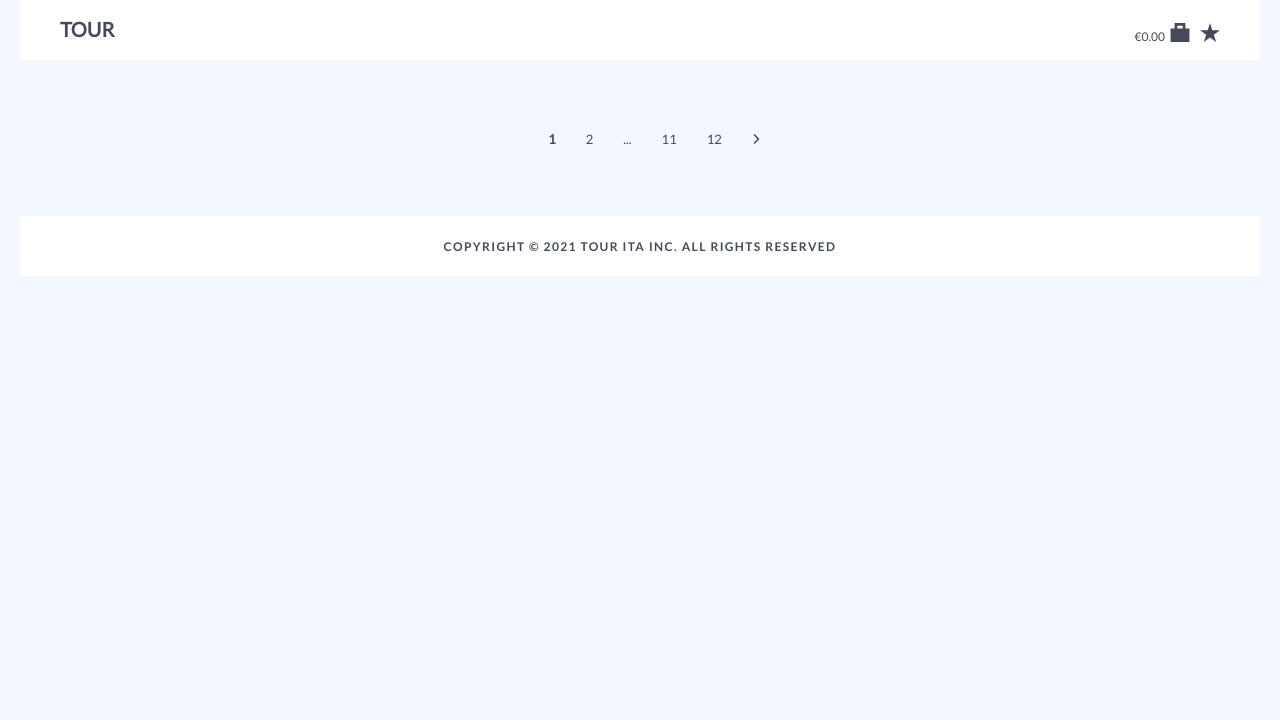
Test case: Home page E2E test › Wishlist modal appears when clicking the wishlist icon in the header
Click the picture with test id "wishlist-button": (1210, 33) [1200,23,1220,43]
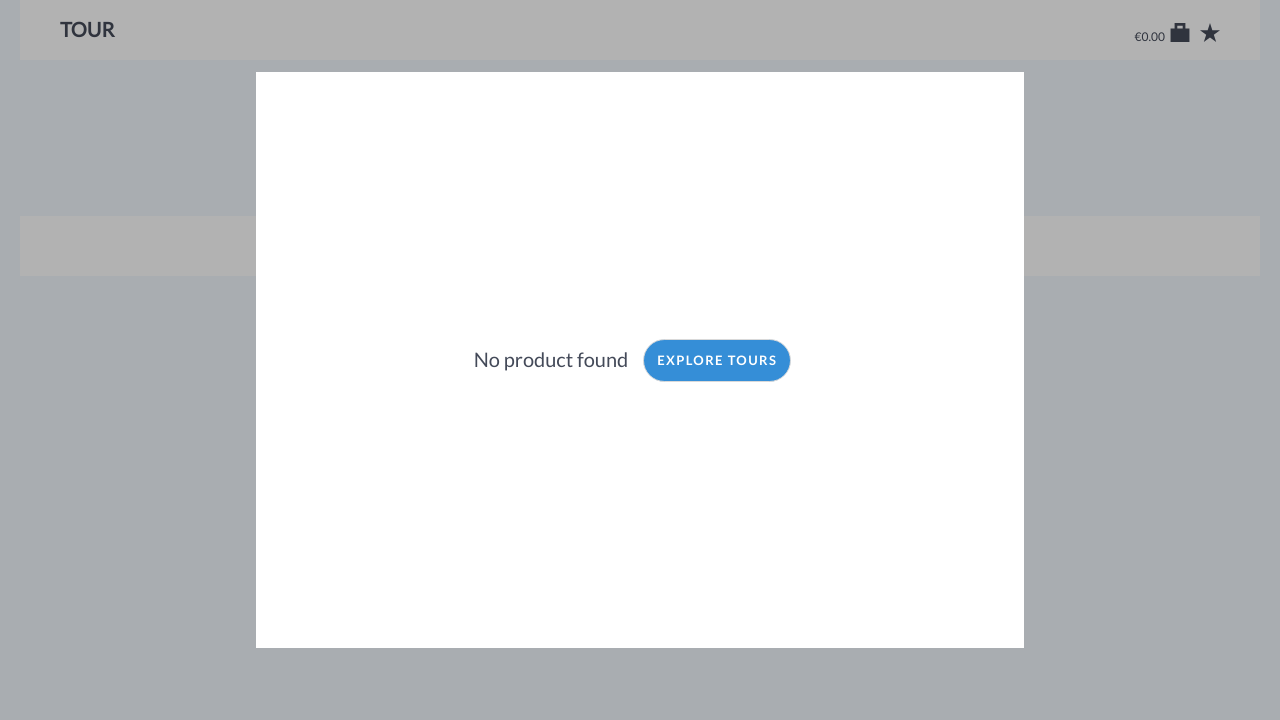
Expected: the element with test id "modal" is shown, [256,72,1024,648]
